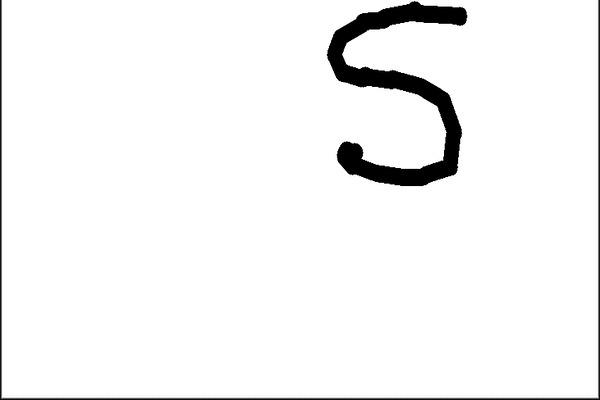S: (314, 1, 482, 200)
